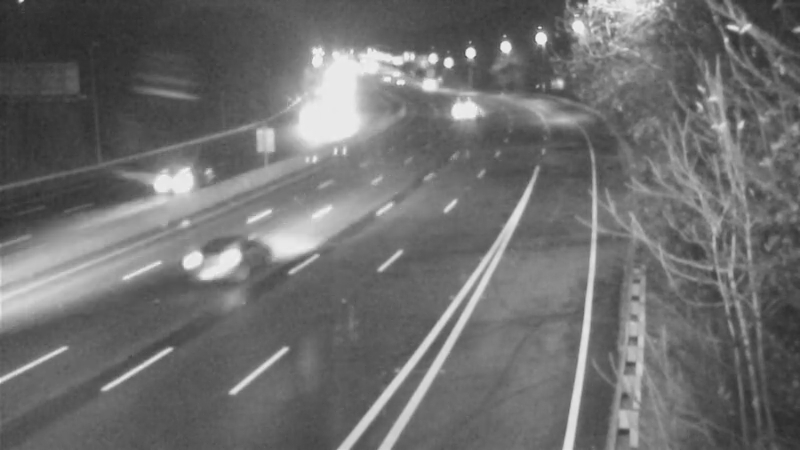vehicle: (176, 218, 256, 298), (132, 137, 212, 217), (433, 86, 483, 136), (282, 99, 332, 149)
